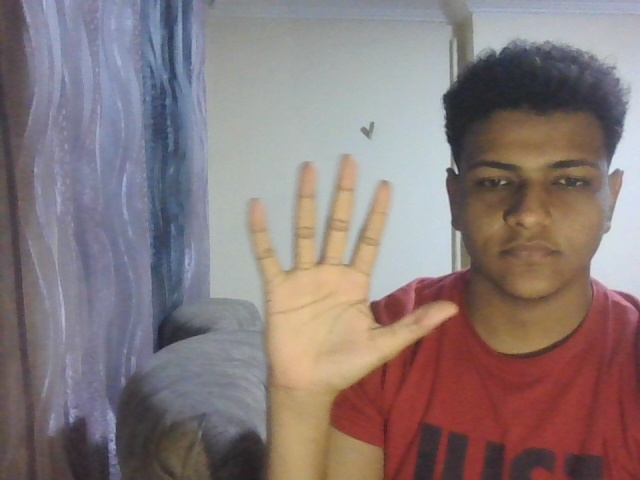Hello: (240, 149, 462, 381)
